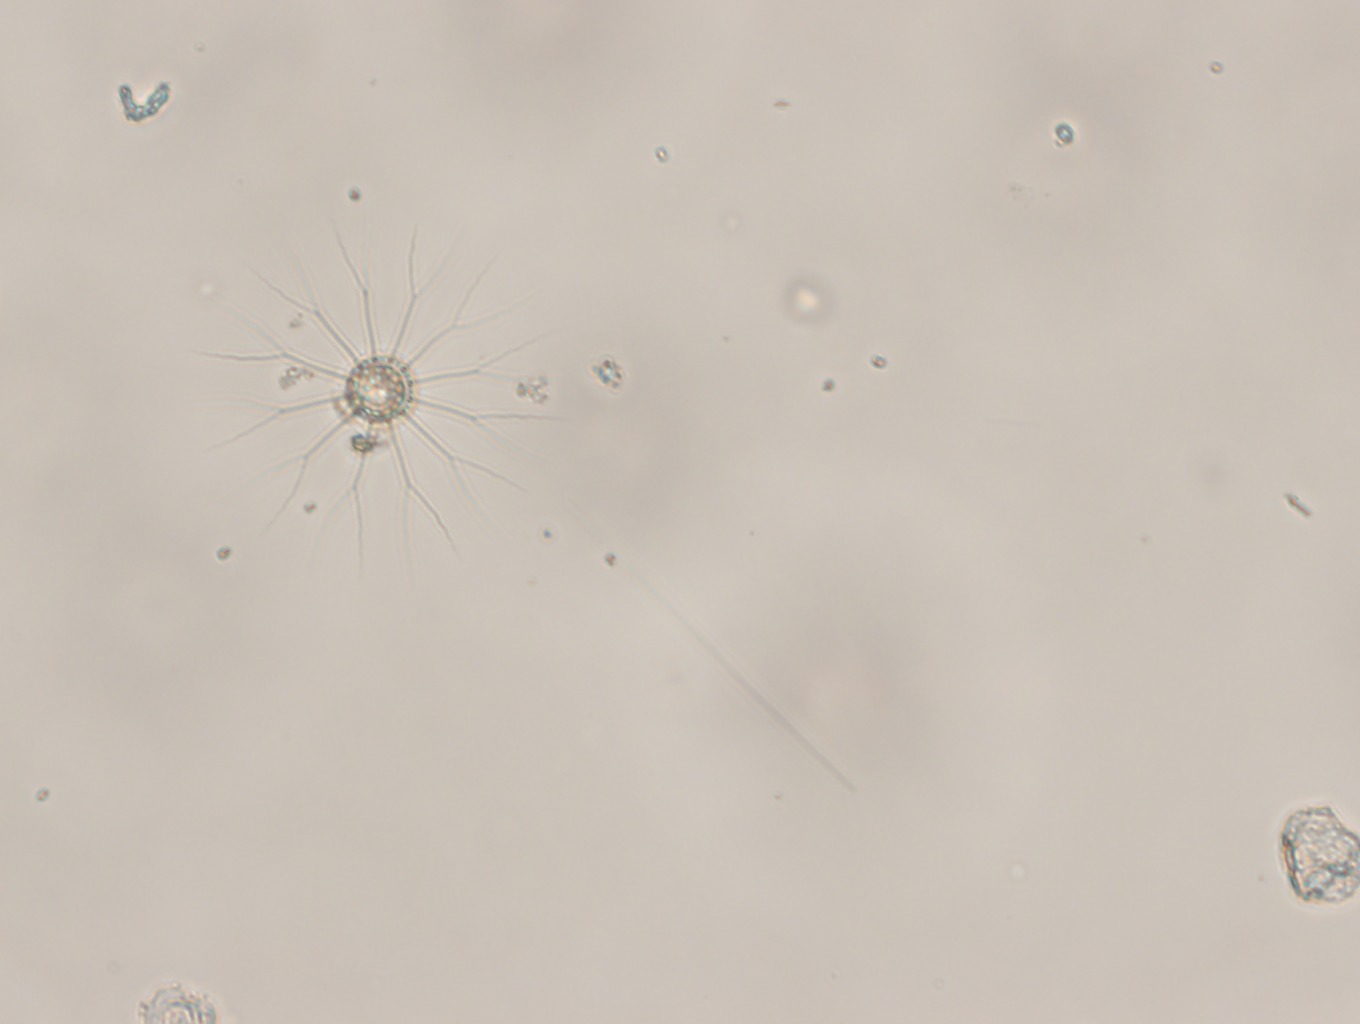bacteriastrum: (184, 208, 563, 583)
